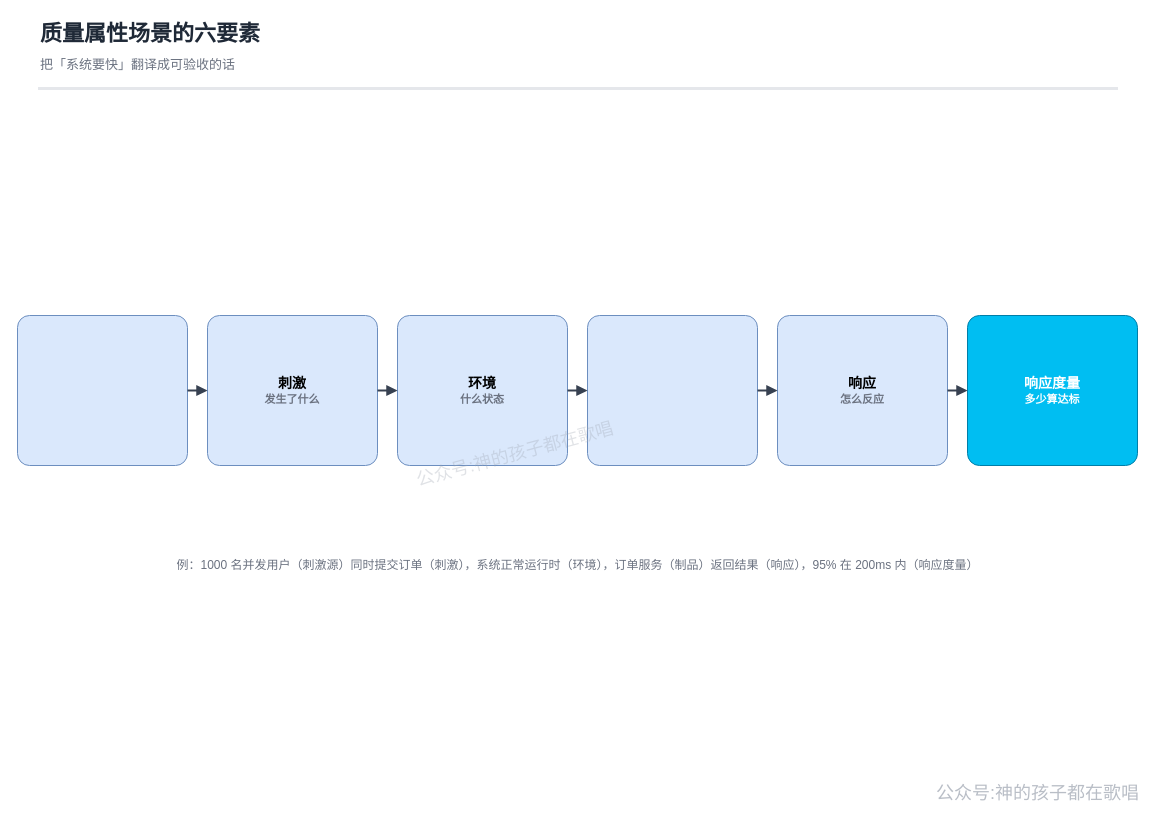
This 1158x827 diagram has some shape labels left out. Each missing label, with the box of its shape:
制品 影响什么: (586, 314, 758, 466)
刺激源 谁触发: (16, 314, 188, 466)
